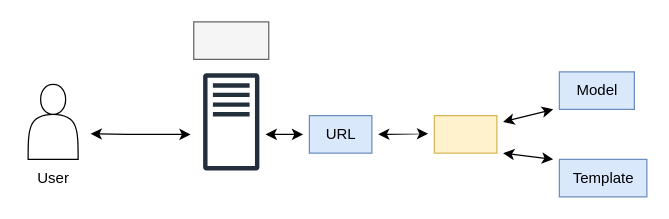
Some shapes in this 669 by 219 pixel diagram are drawn without their labels. The box of each missing label's shape, as (x1, y1, x2, y2) in pixels:
Django: (192, 21, 269, 59)
View: (433, 114, 497, 153)
